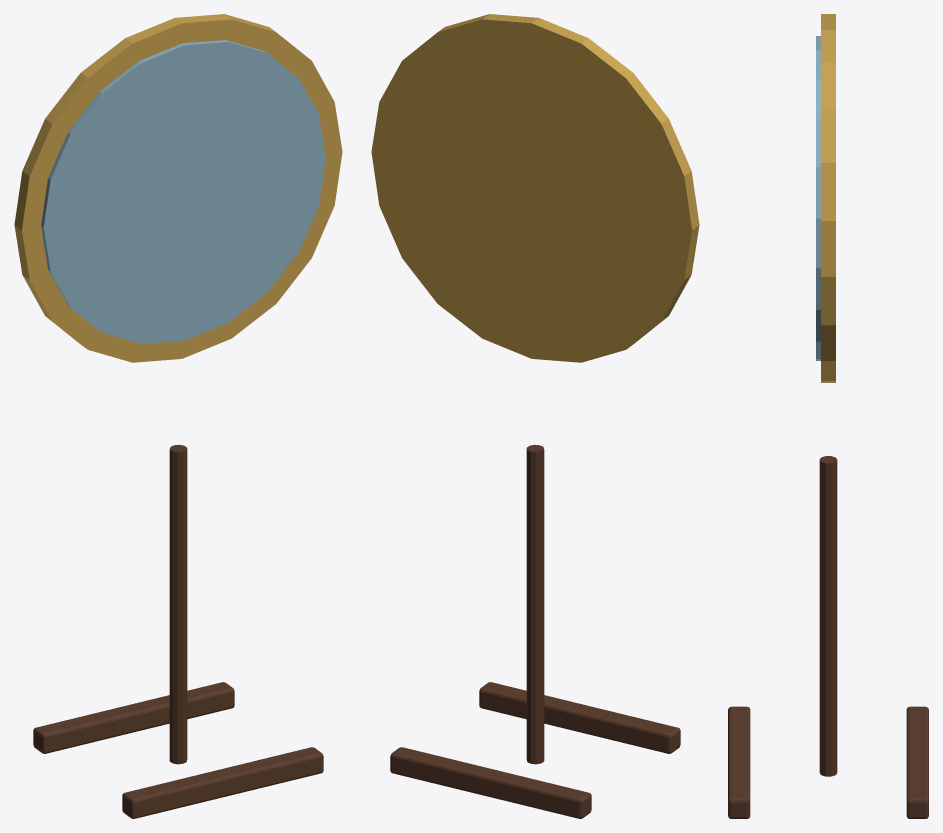
Rendered from hh_standing_mirror.glb.
3 renders of one model, left to right at view 1: azimuth 30°, elevation 25°; view 2: azimuth 150°, elevation 25°; view 3: azimuth 270°, elevation 25°, orthographic.
Visible parts, largest first — view 1: glass, frame, stem, foot, foot.001; view 2: frame, stem, foot.001, foot; view 3: stem, frame, foot, foot.001, glass.
Part boxes in pixels (x1=…): glass: x1=41, y1=40, x2=325, y2=343; frame: x1=14, y1=14, x2=342, y2=362; stem: x1=169, y1=444, x2=187, y2=764; foot: x1=122, y1=747, x2=323, y2=818; foot.001: x1=33, y1=682, x2=234, y2=753; frame: x1=371, y1=14, x2=699, y2=362; stem: x1=526, y1=444, x2=544, y2=764; foot.001: x1=390, y1=747, x2=591, y2=818; foot: x1=479, y1=682, x2=680, y2=753; stem: x1=819, y1=456, x2=837, y2=776; frame: x1=821, y1=14, x2=835, y2=382; foot: x1=728, y1=706, x2=750, y2=818; foot.001: x1=906, y1=706, x2=928, y2=818; glass: x1=816, y1=36, x2=820, y2=360.
Bounding box in the file's own units: 0.5 × 1.1 × 0.27.
